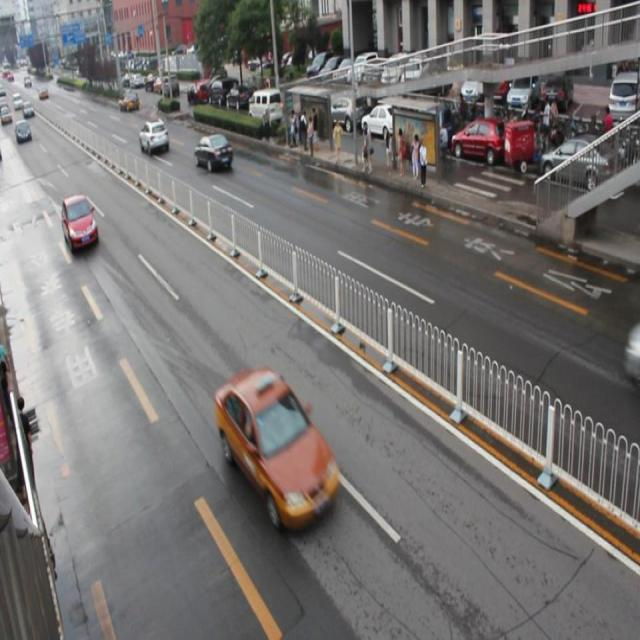car: (213, 371, 340, 530), (61, 194, 98, 252), (194, 132, 233, 170), (140, 119, 168, 154)
